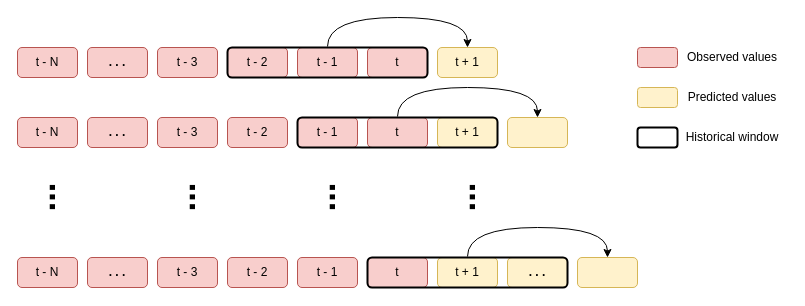
This 805x306 diagram has some shape labels left out. The centre of each missing label's shape, as x and y in pixels:
t + 2: (537,132)
t + H: (607,272)
